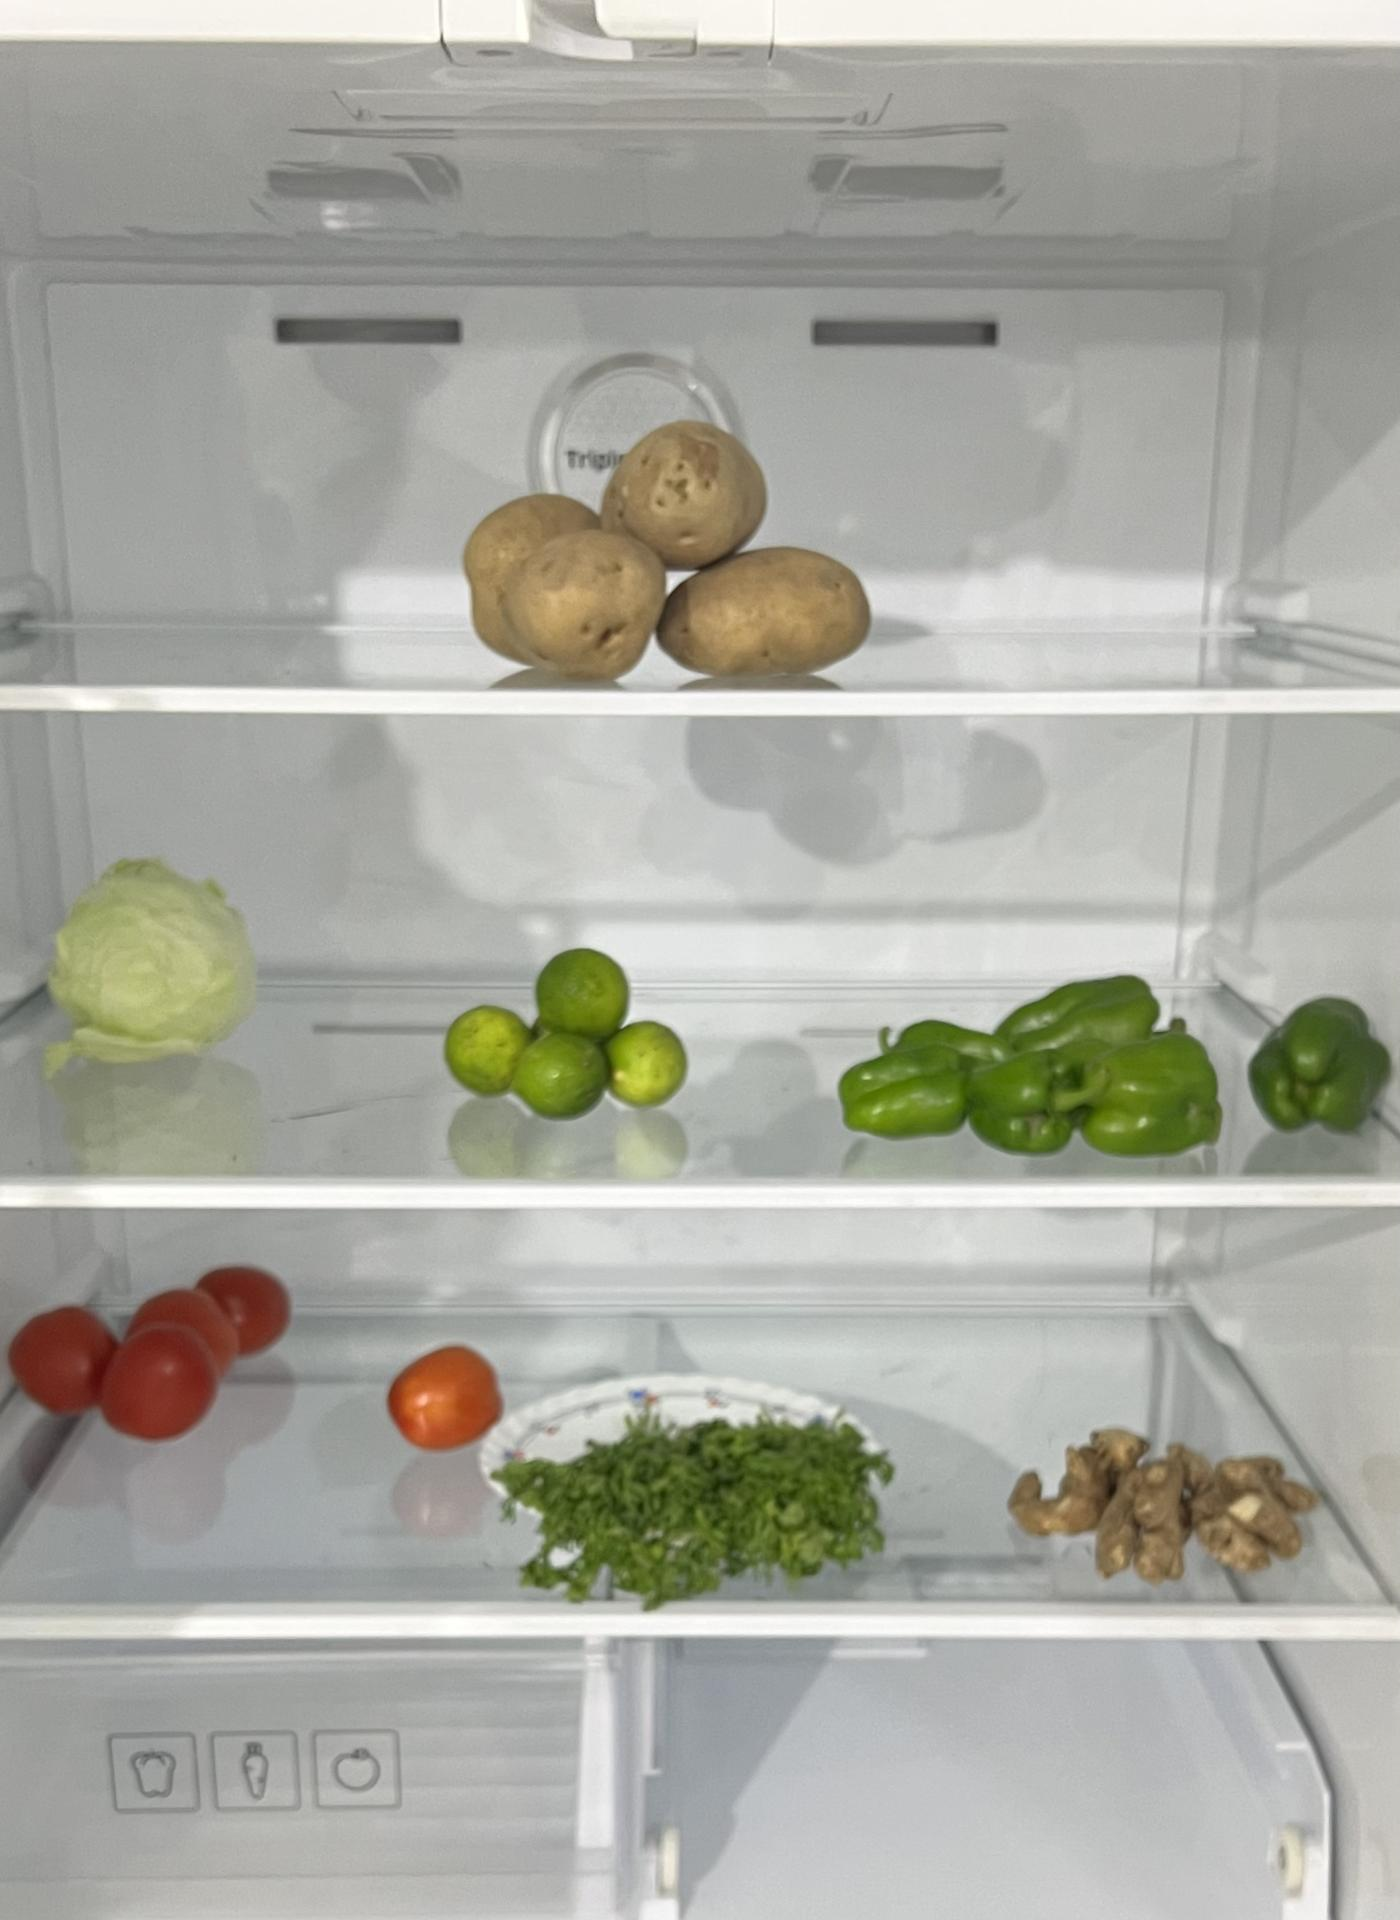cabbage: (49, 854, 250, 1060)
capsicum: (833, 969, 1370, 1154)
coriander: (513, 1415, 899, 1607)
ginger: (1014, 1418, 1319, 1585)
lemon: (438, 941, 686, 1117)
potato: (456, 417, 869, 674)
tomato: (10, 1264, 289, 1441), (385, 1342, 507, 1450)
